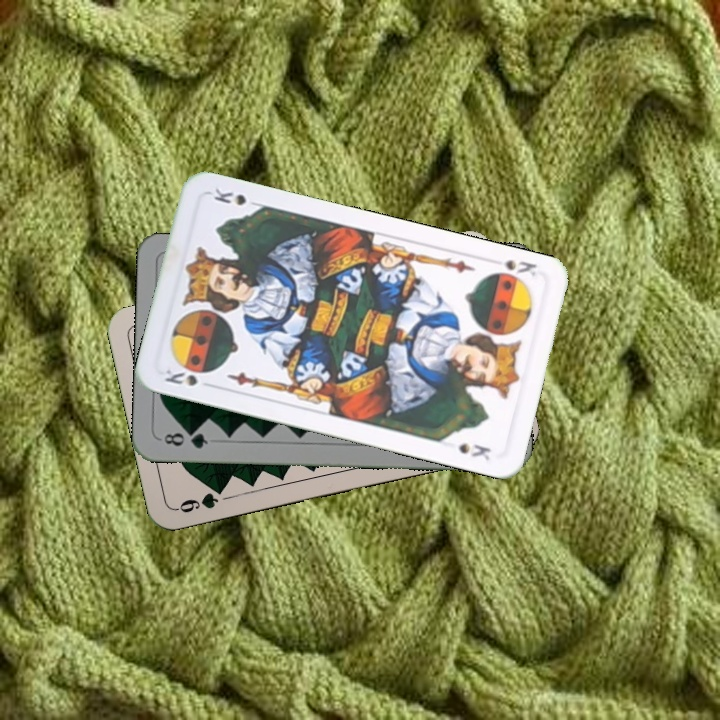G8: (160, 427, 211, 452)
G9: (172, 482, 228, 516)
SK: (160, 365, 217, 391), (501, 255, 540, 279)
